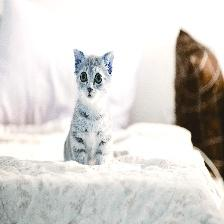kedo: (63, 49, 114, 166)
